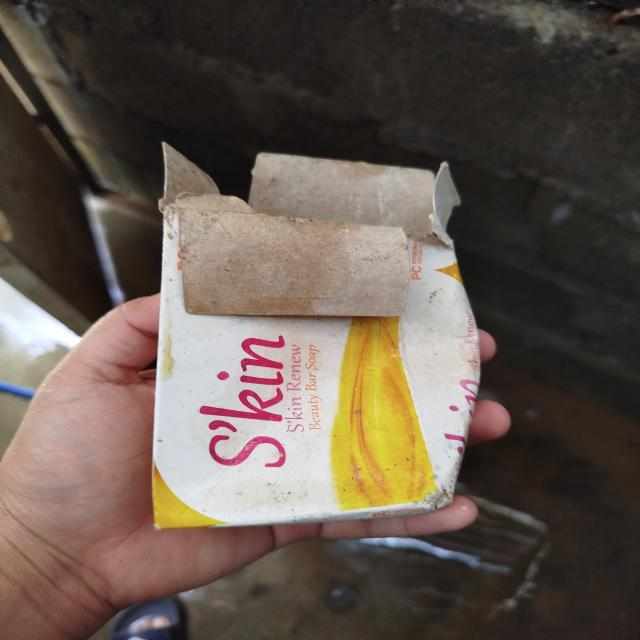paper: (115, 132, 508, 532)
